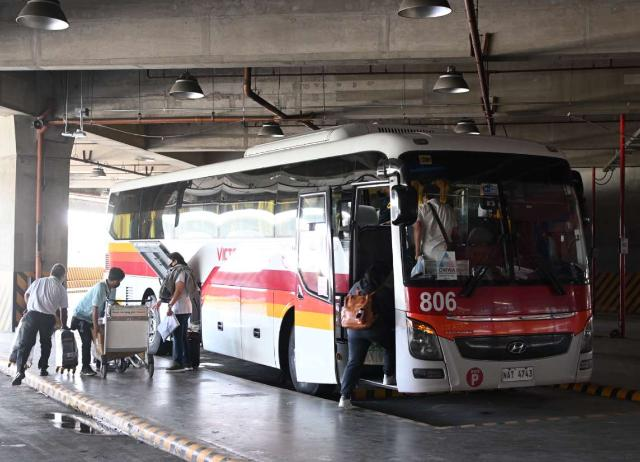bus: (128, 128, 592, 398)
